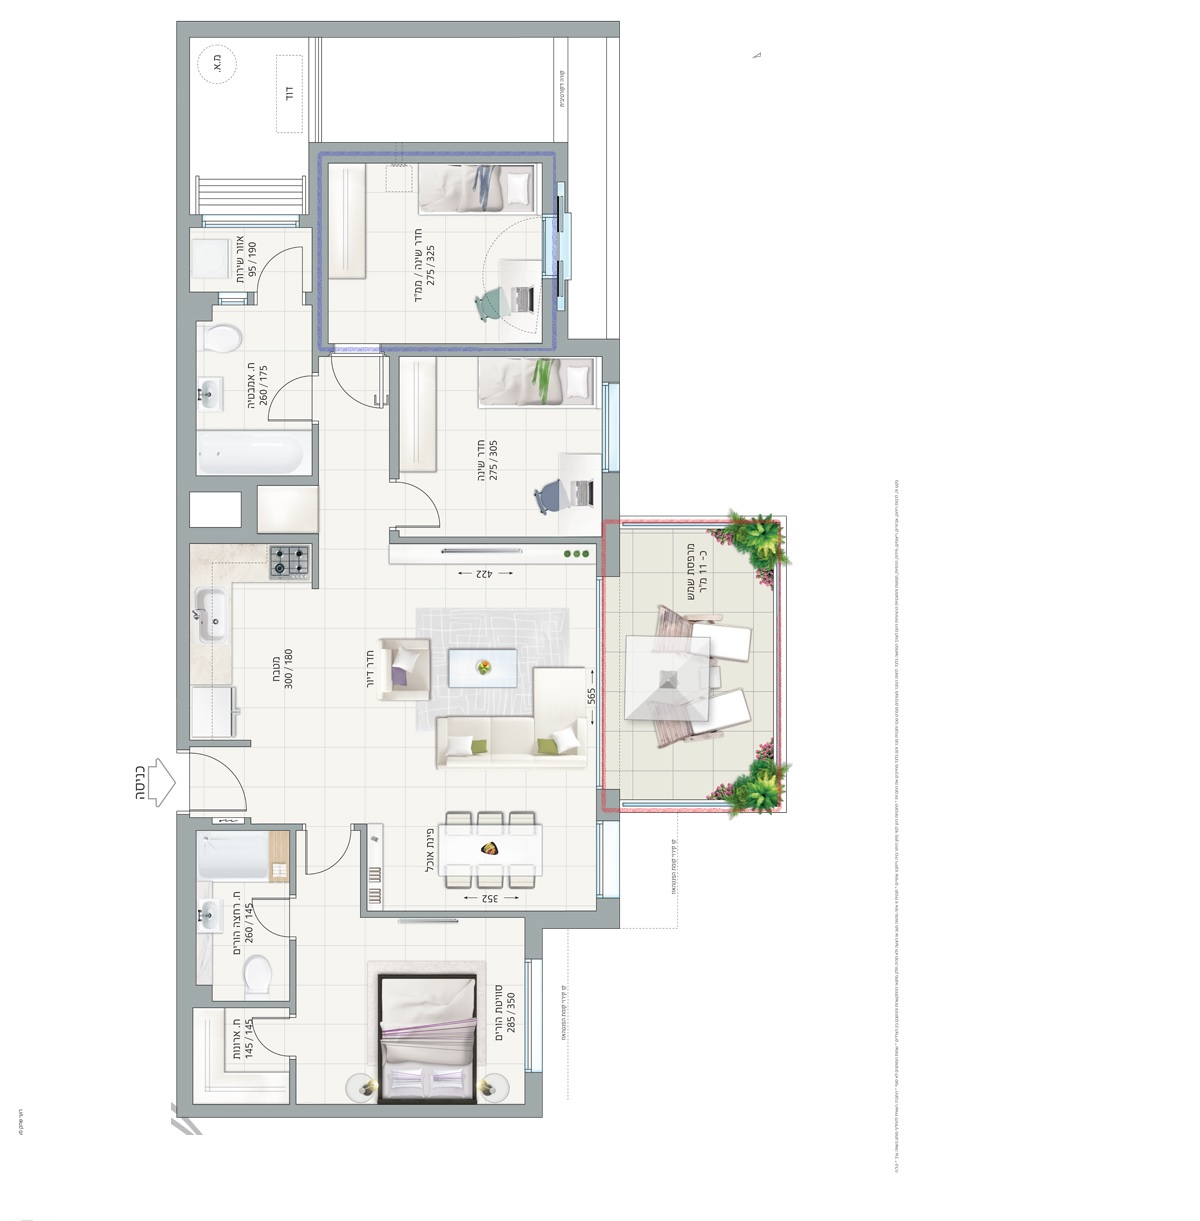balcony: (603, 518, 780, 815)
no: (359, 541, 595, 918), (182, 820, 365, 1122), (180, 224, 320, 486), (362, 915, 540, 1118), (180, 24, 322, 230)
securityroom: (316, 149, 557, 348)
